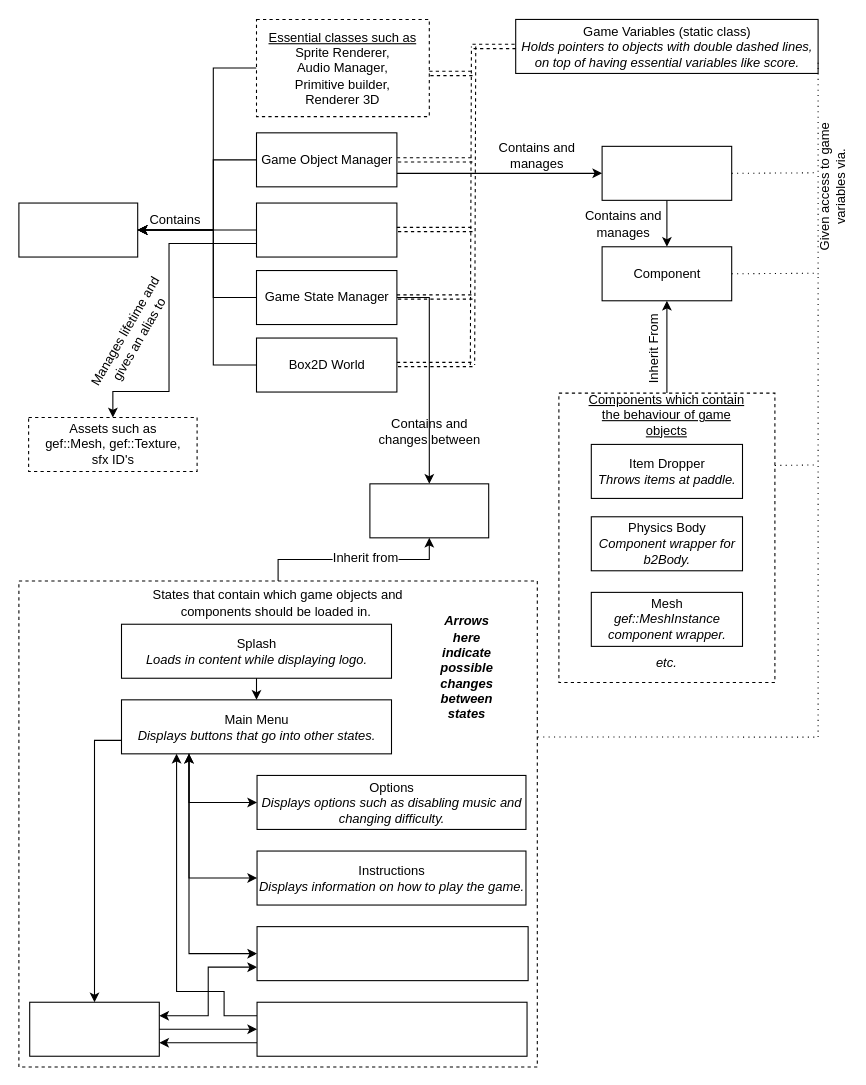
Image size: 866x1085. Some labels were removed from this diagram. Here are the shapes that lost their labels. From the top down, the box of each, then its label:
(601, 145, 732, 200): Game Object
(18, 202, 138, 257): scene_app
(255, 202, 397, 257): Asset Manager
(369, 483, 489, 538): Game State
(256, 926, 528, 981): Paused Pauses game play and allows player to exit to go to the main menu.
(29, 1001, 159, 1056): In game State in which game play happens.
(256, 1001, 527, 1056): Game Over Displays score and allows player to replay or go to menu.
